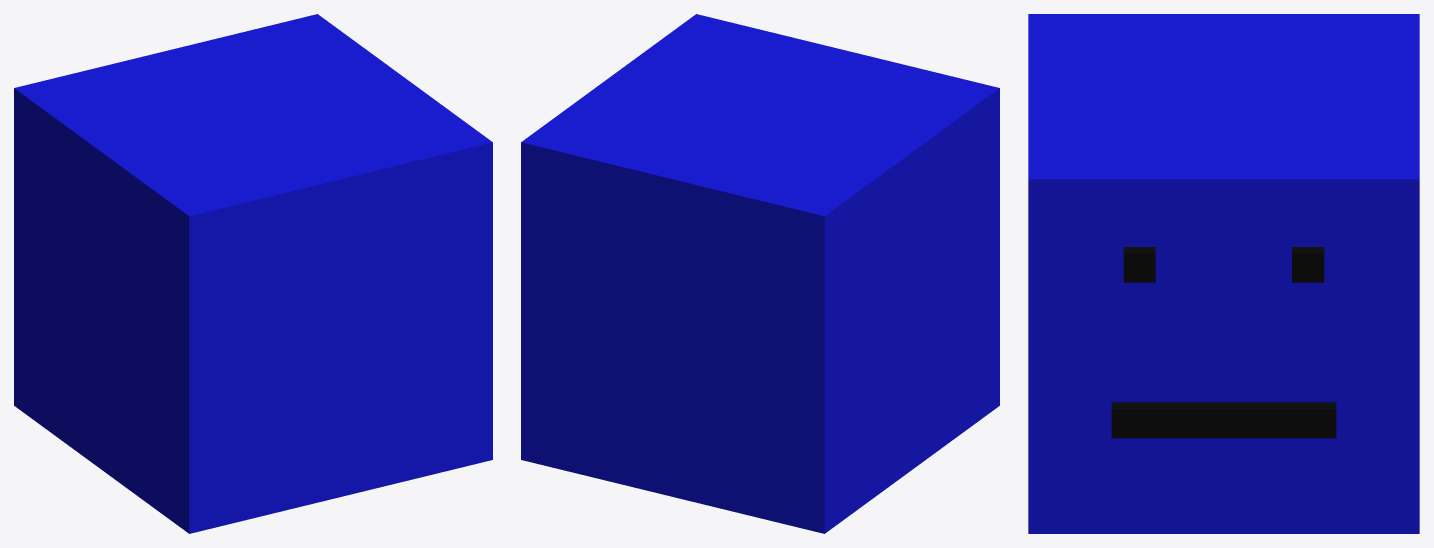
Rendered from Cube_Char.fbx.
3 renders of one model, left to right at view 1: azimuth 30°, elevation 25°; view 2: azimuth 150°, elevation 25°; view 3: azimuth 270°, elevation 25°, orthographic. The views are drawn at different scales.
Visible parts, largest first — view 1: Cube; view 2: Cube; view 3: Cube, Cube.001, Eye_R, Eye_L.
Part boxes in pixels (box(x1,y1,x2,y2)): Cube: box(14, 14, 492, 533); Cube: box(521, 14, 999, 533); Cube: box(1028, 14, 1419, 533); Cube.001: box(1111, 402, 1336, 438); Eye_R: box(1123, 247, 1155, 282); Eye_L: box(1292, 247, 1324, 282).
Size of the model in its own units: 212 by 200 by 200.
